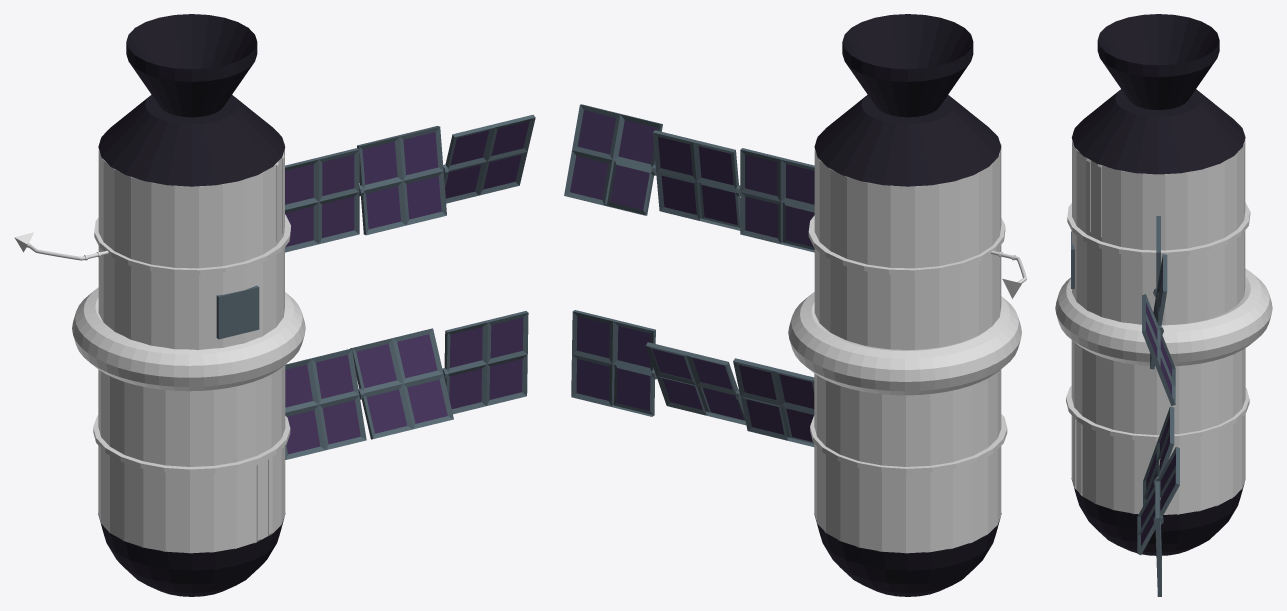
File: iss.gltf
The picture shows the model from 3 angles, left to right: view 1: azimuth 30°, elevation 25°; view 2: azimuth 150°, elevation 25°; view 3: azimuth 270°, elevation 25°; orthographic projection. The views are drawn at different scales.
Parts seen in each view (by area): view 1: Cylinder.005, Cylinder, Cone, Torus, Cone.001, Sphere, Cube.004, Cube.001, Cube.005, Cube.003, Cube, Cube.002 (+26 smaller); view 2: Cylinder, Cylinder.005, Torus, Cone, Cone.001, Sphere, Cube.002, Cube.005, Cube.001, Cube, Cube.004, Cube.003 (+25 smaller); view 3: Cylinder, Cylinder.005, Cone, Cone.001, Torus, Sphere, Cube.002, Cube.004, Cube.003, Circle, Cube.001, Cube.005 (+1 smaller).
Part boxes in pixels (left/top/right/bottom): Cylinder.005: left=93, top=365, right=290, bottom=553; Cylinder: left=94, top=129, right=290, bottom=349; Cone: left=98, top=96, right=285, bottom=186; Torus: left=72, top=287, right=305, bottom=391; Cone.001: left=126, top=14, right=257, bottom=117; Sphere: left=98, top=513, right=285, bottom=596; Cube.004: left=350, top=328, right=453, bottom=439; Cube.001: left=357, top=126, right=446, bottom=235; Cube.005: left=444, top=311, right=528, bottom=414; Cube.003: left=285, top=349, right=366, bottom=459; Cube: left=285, top=148, right=359, bottom=252; Cube.002: left=444, top=114, right=535, bottom=203; Cylinder: left=808, top=129, right=1005, bottom=349; Cylinder.005: left=810, top=369, right=1007, bottom=553; Torus: left=788, top=292, right=1021, bottom=395; Cone: left=814, top=95, right=1001, bottom=186; Cone.001: left=842, top=14, right=973, bottom=117; Sphere: left=814, top=513, right=1001, bottom=596; Cube.002: left=564, top=104, right=662, bottom=215; Cube.005: left=571, top=310, right=655, bottom=416; Cube.001: left=652, top=130, right=740, bottom=230; Cube: left=740, top=148, right=814, bottom=252; Cube.004: left=646, top=342, right=746, bottom=425; Cube.003: left=733, top=358, right=814, bottom=446; Cylinder: left=1067, top=121, right=1250, bottom=325; Cylinder.005: left=1066, top=340, right=1249, bottom=514; Cone: left=1071, top=90, right=1245, bottom=174; Cone.001: left=1097, top=14, right=1219, bottom=109; Torus: left=1055, top=268, right=1272, bottom=366; Sphere: left=1071, top=478, right=1244, bottom=555; Cube.002: left=1142, top=294, right=1175, bottom=405; Cube.004: left=1137, top=446, right=1179, bottom=555; Cube.003: left=1143, top=406, right=1174, bottom=505; Circle: left=1115, top=89, right=1201, bottom=116; Cube.001: left=1150, top=254, right=1167, bottom=369; Cube.005: left=1155, top=481, right=1161, bottom=596.
Size of the model in its own units: 5.94 by 6.45 by 2.5.
